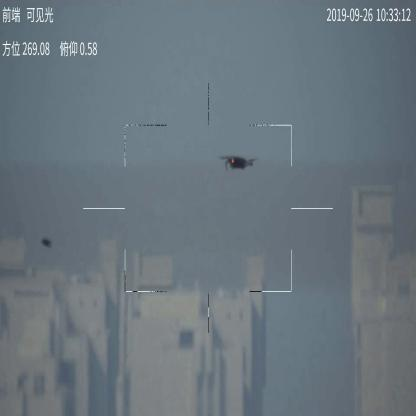uav: (218, 153, 259, 172)
